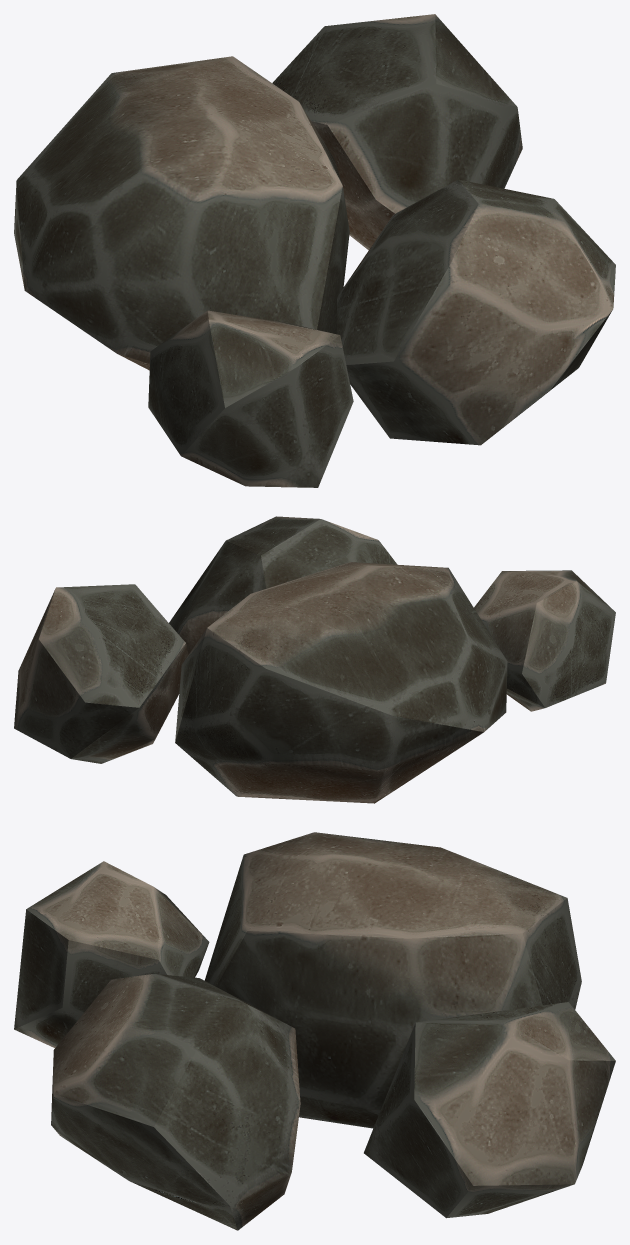
The model's file is pebble_group_3.fbx.
3 views of the same model, one above another, from view 1: azimuth 30°, elevation 25°; view 2: azimuth 150°, elevation 25°; view 3: azimuth 270°, elevation 25° (orthographic). The views are drawn at different scales.
Visible parts, largest first — view 1: pebble_group_3; view 2: pebble_group_3; view 3: pebble_group_3.
Boxes of the visible parts, x1=… form: pebble_group_3: x1=14, y1=14, x2=615, y2=487; pebble_group_3: x1=14, y1=516, x2=615, y2=803; pebble_group_3: x1=14, y1=832, x2=615, y2=1230.
Size of the model in its own units: 0.8333 by 0.4232 by 0.8446.
